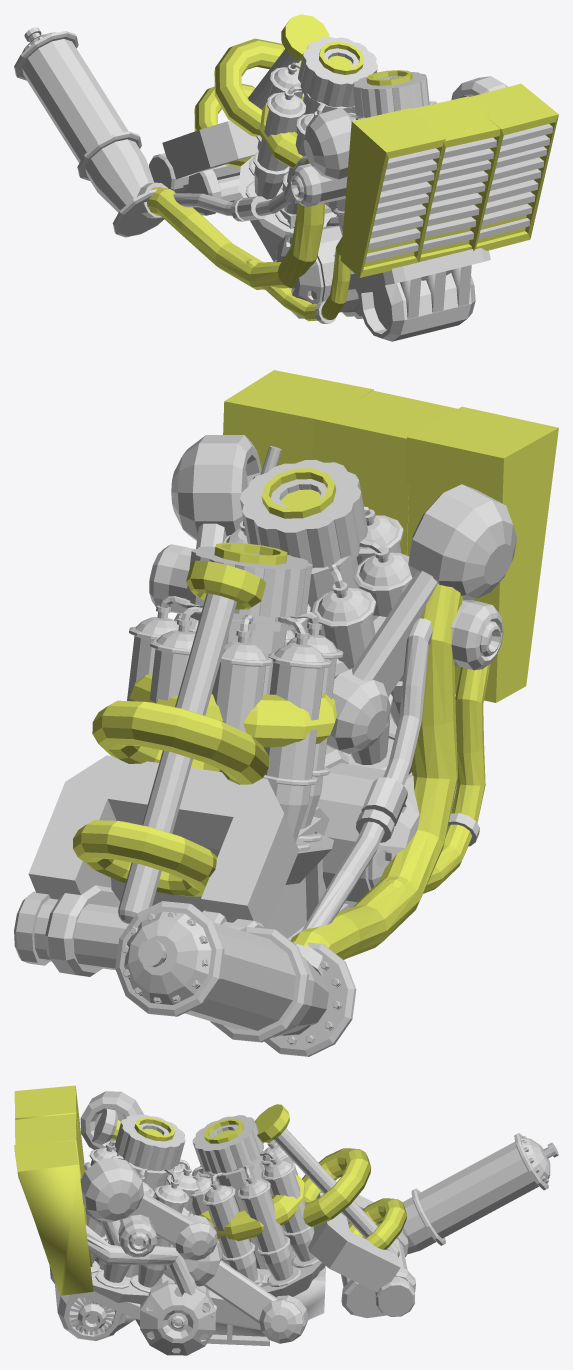
File: engine.fbx
3 renders of one model, top to bottom at view 1: azimuth 30°, elevation 25°; view 2: azimuth 150°, elevation 25°; view 3: azimuth 270°, elevation 25°, orthographic. The views are drawn at different scales.
Parts seen in each view (by area): view 1: group1151165594; view 2: group1151165594; view 3: group1151165594.
Boxes of the visible parts, x1,y1,x2,y2 form: group1151165594: [14, 14, 558, 341]; group1151165594: [14, 370, 558, 1056]; group1151165594: [14, 1085, 558, 1355].
Bounding box in the file's own units: 146 × 138 × 296.
